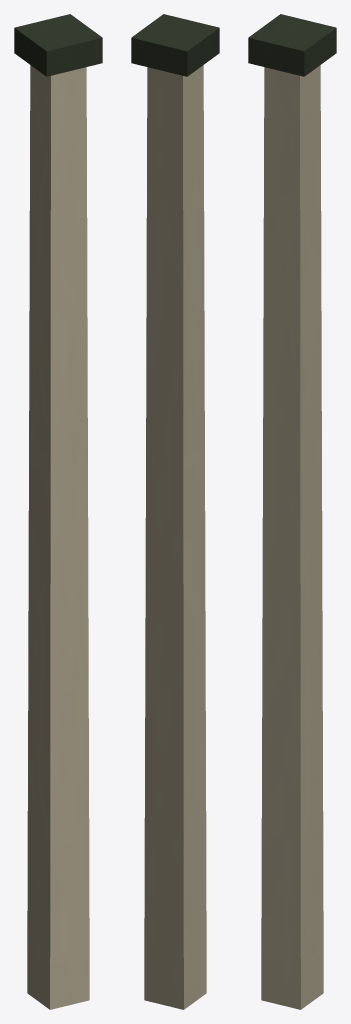
The model's file is house_01_porch_post.glb.
The picture shows the model from 3 angles, left to right: view 1: azimuth 30°, elevation 25°; view 2: azimuth 150°, elevation 25°; view 3: azimuth 330°, elevation 25°; orthographic projection.
Parts seen in each view (by area): view 1: outdoor_house_01_porch_post; view 2: outdoor_house_01_porch_post; view 3: outdoor_house_01_porch_post.
Part boxes in pixels (x1=…): outdoor_house_01_porch_post: x1=14, y1=14, x2=102, y2=1009; outdoor_house_01_porch_post: x1=131, y1=14, x2=219, y2=1009; outdoor_house_01_porch_post: x1=248, y1=14, x2=336, y2=1009.
Bounding box in the file's own units: 0.14 × 2.3 × 0.14.
1 material, 1 textured.
